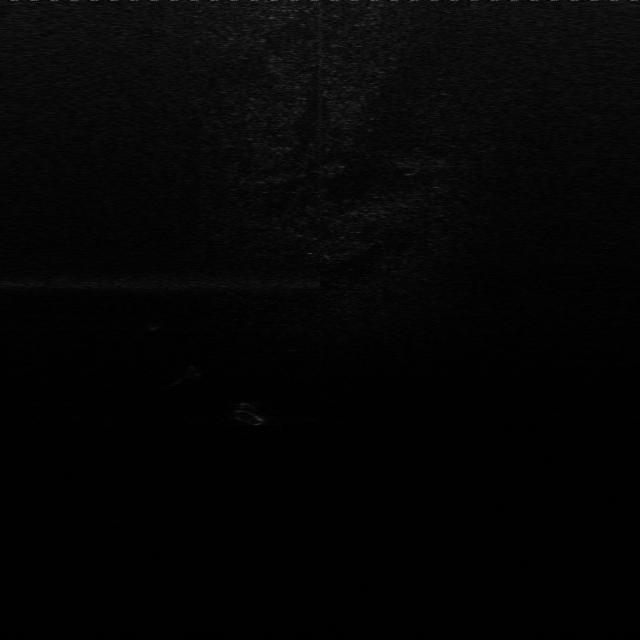tyre: (223, 394, 273, 432)
